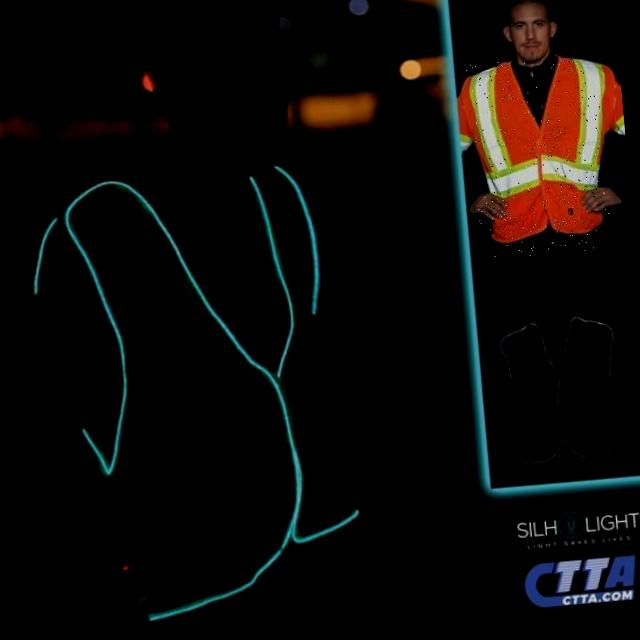no-helmet: (497, 0, 572, 75)
vest: (31, 120, 404, 614), (466, 53, 612, 260)
